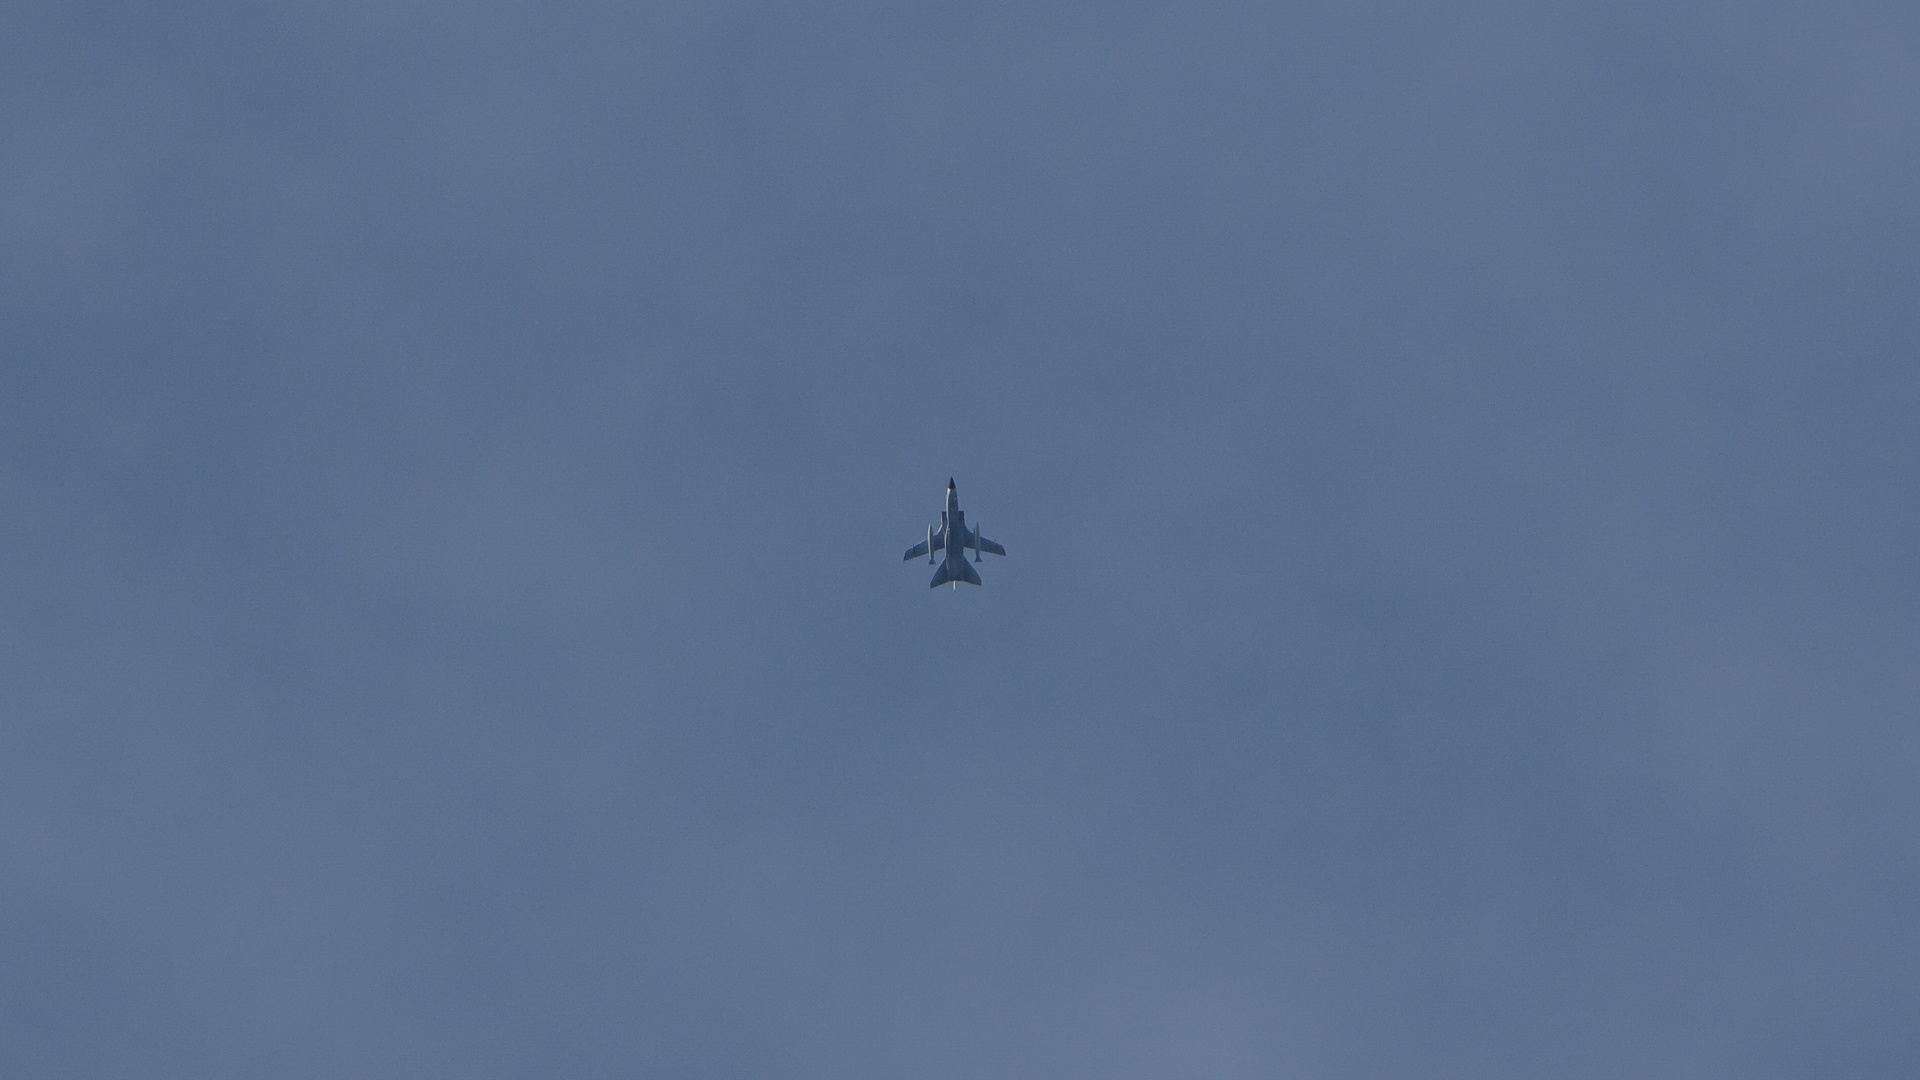Tornado: (902, 475, 1007, 593)
